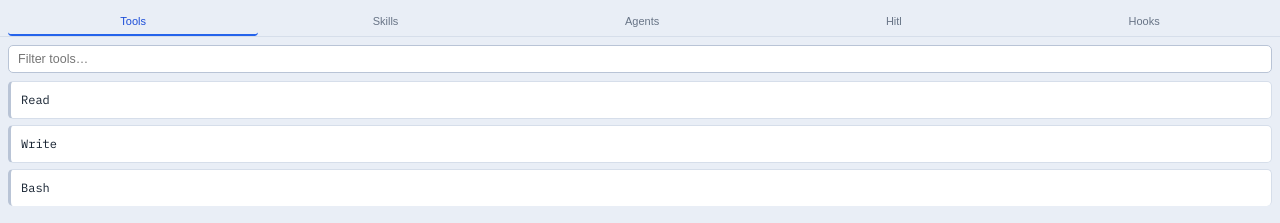
Test: Palette — New agent affordance (M09.A) › a_fresh_agents_tab_shows_a_new_agent_item
Click the tab with test id "palette-tab-agents": (642, 22) [513,8,772,36]
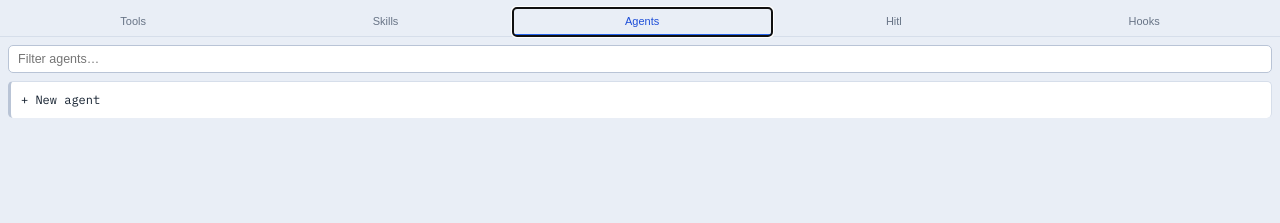
expect the list item with test id "palette-item-agent-1" is shown: met, box [8,81,1272,118]
